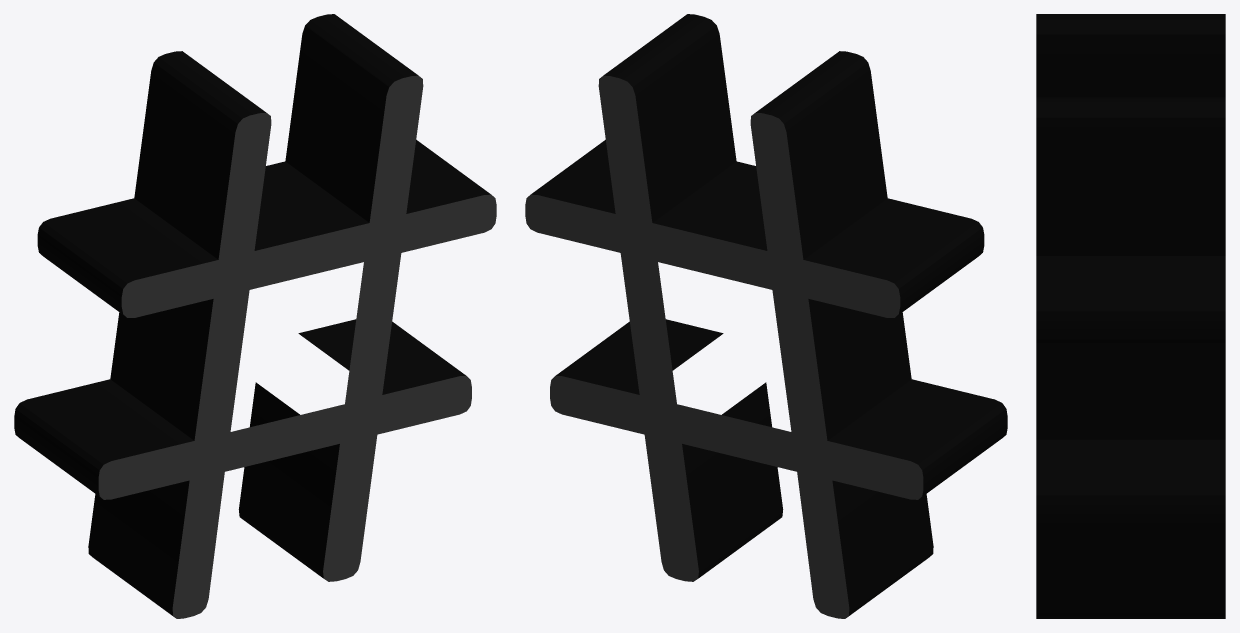
The model's file is 4c88ffe4-a922-498a-9e46-064063cc4f3a.glb.
3 views of the same model, side by side, from view 1: azimuth 30°, elevation 25°; view 2: azimuth 150°, elevation 25°; view 3: azimuth 270°, elevation 25° (orthographic). The views are drawn at different scales.
Parts seen in each view (by area): view 1: #_Soul_Black; view 2: #_Soul_Black; view 3: #_Soul_Black.
Boxes of the visible parts, box(x1,y1,x2,y2) form: #_Soul_Black: box(14, 14, 496, 618); #_Soul_Black: box(525, 14, 1007, 618); #_Soul_Black: box(1036, 14, 1225, 618).
Size of what is drawn, in the model's own units: 0.1228 by 0.1435 by 0.045.
2 materials, 2 textured.
